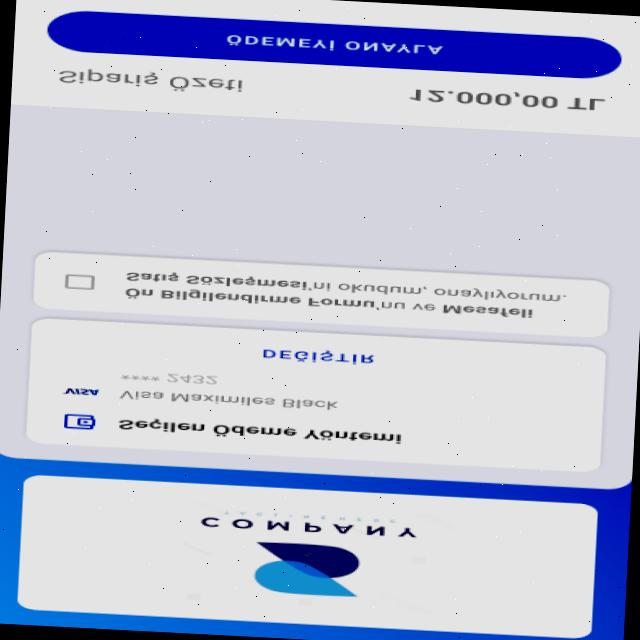QLabel: (48, 9, 622, 81), (112, 416, 405, 446), (120, 285, 376, 312), (314, 281, 568, 304), (221, 32, 444, 58), (52, 67, 247, 95), (117, 388, 340, 412), (404, 86, 605, 112), (121, 271, 312, 291), (256, 345, 376, 367), (118, 368, 228, 390), (439, 303, 535, 320), (382, 300, 436, 312)
VBtn: (212, 338, 418, 374)
VCard: (0, 105, 640, 490), (17, 474, 597, 640), (24, 316, 606, 474), (33, 249, 613, 339)
VCheckbox: (56, 270, 99, 294)
VFooter: (11, 0, 640, 138)
VImg: (170, 500, 434, 606), (50, 410, 106, 433), (51, 381, 110, 402)
